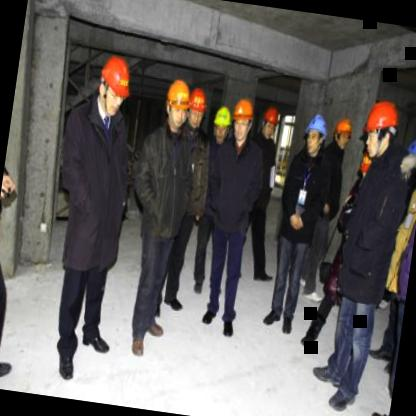helmet: (91, 53, 135, 121), (361, 98, 401, 160), (227, 92, 259, 144), (162, 76, 192, 128), (300, 110, 330, 158), (256, 102, 283, 144), (186, 88, 210, 132), (210, 102, 234, 146), (332, 112, 356, 153)
